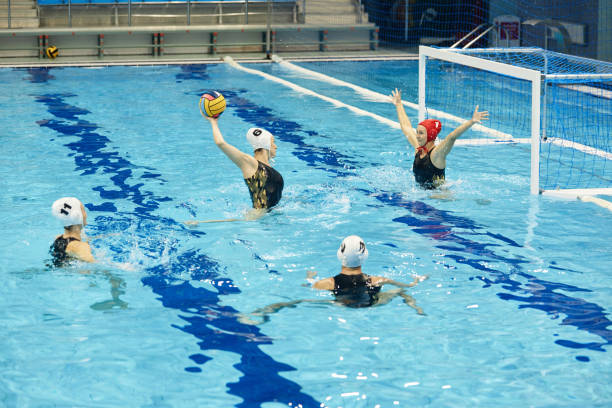ball: (199, 91, 226, 118)
player: (390, 87, 488, 190), (302, 235, 428, 315), (209, 111, 284, 215), (49, 196, 96, 268)
